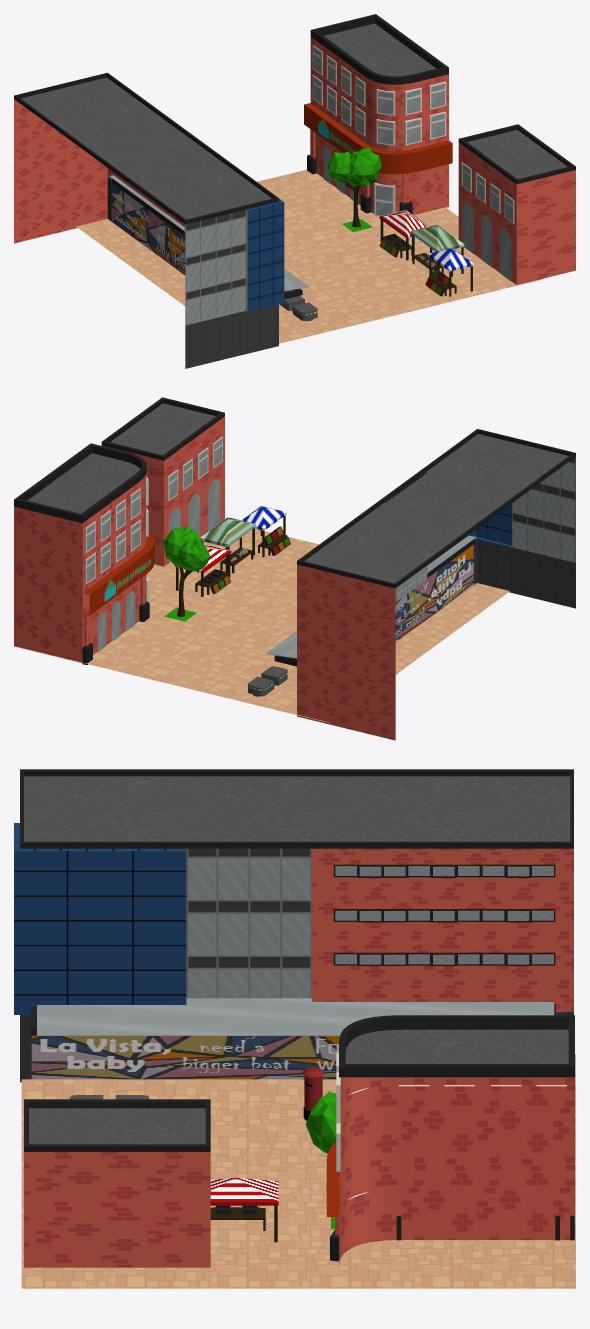
File: Third Module.fbx
3 views of the same model, one above another, from view 1: azimuth 30°, elevation 25°; view 2: azimuth 150°, elevation 25°; view 3: azimuth 270°, elevation 25° (orthographic). The views are drawn at different scales.
Visible parts, largest first — view 1: Mural Building; view 2: Mural Building; view 3: Mural Building.
Part boxes in pixels (x1,y1,x2,y2): Mural Building: [14, 14, 575, 368]; Mural Building: [14, 397, 575, 740]; Mural Building: [14, 769, 575, 1288].
Bounding box in the file's own units: 1187 × 429 × 912.
